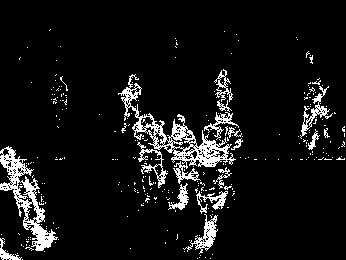person: (1, 142, 56, 250), (193, 128, 232, 251), (135, 115, 170, 203), (171, 117, 201, 207), (211, 104, 243, 177), (120, 74, 142, 135), (214, 69, 234, 119)
